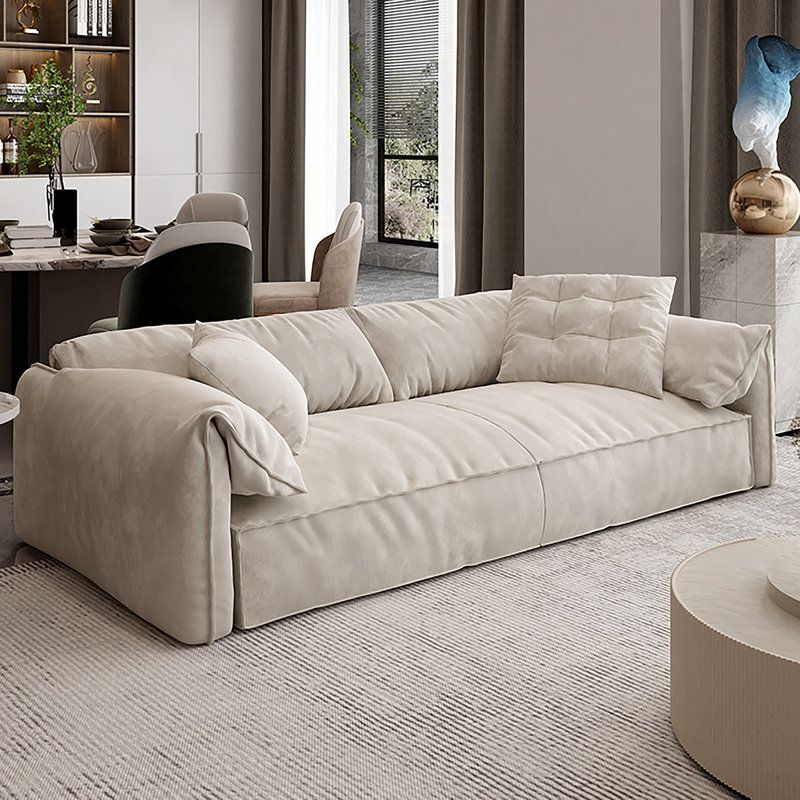3seatersofa: (14, 274, 774, 642)
backrest: (212, 291, 507, 412), (51, 323, 191, 375)
leftarmrest: (664, 315, 775, 485)
pillow: (498, 274, 674, 397), (188, 323, 307, 454)
rightarmrest: (14, 365, 305, 643)
seat: (233, 384, 760, 626)
